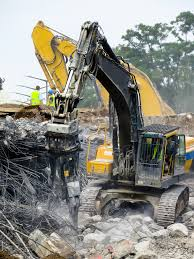excavator: (47, 24, 190, 229)
